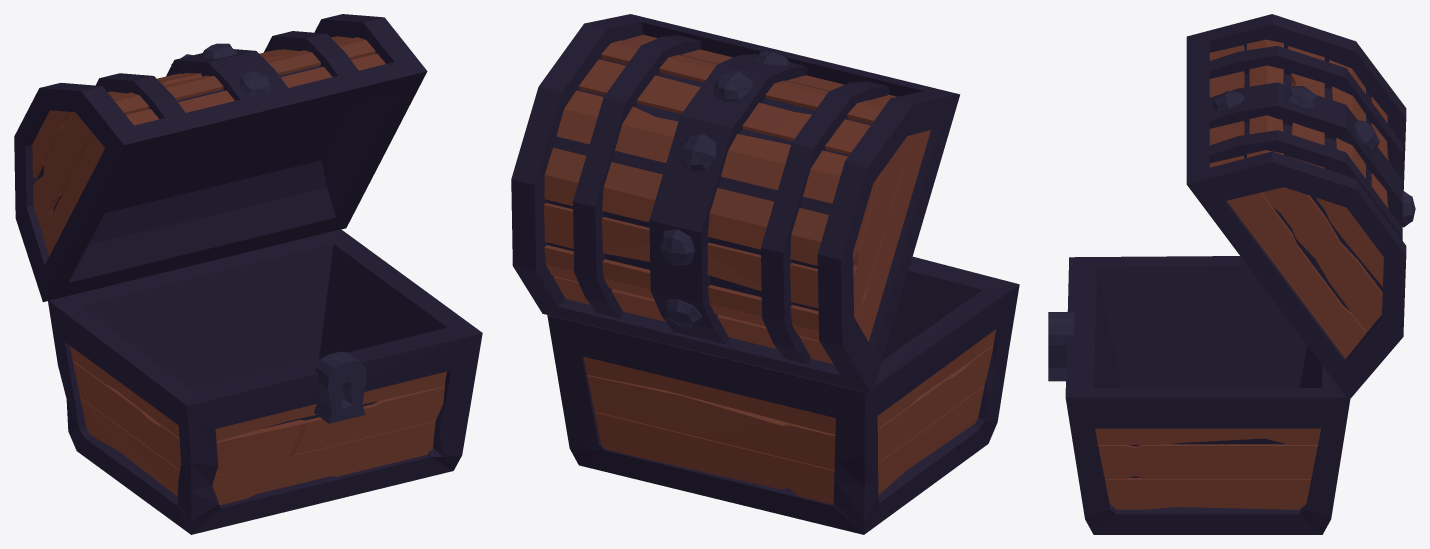
File: chest_open.glb
3 views of the same model, side by side, from view 1: azimuth 30°, elevation 25°; view 2: azimuth 150°, elevation 25°; view 3: azimuth 270°, elevation 25° (orthographic). The views are drawn at different scales.
Visible parts, largest first — view 1: Chest_Open; view 2: Chest_Open; view 3: Chest_Open.
Part boxes in pixels (x1,y1,x2,y2): Chest_Open: [14, 14, 482, 534]; Chest_Open: [511, 14, 1019, 534]; Chest_Open: [1048, 14, 1415, 534].
Size of the model in its own units: 94.96 by 115 by 99.62.
